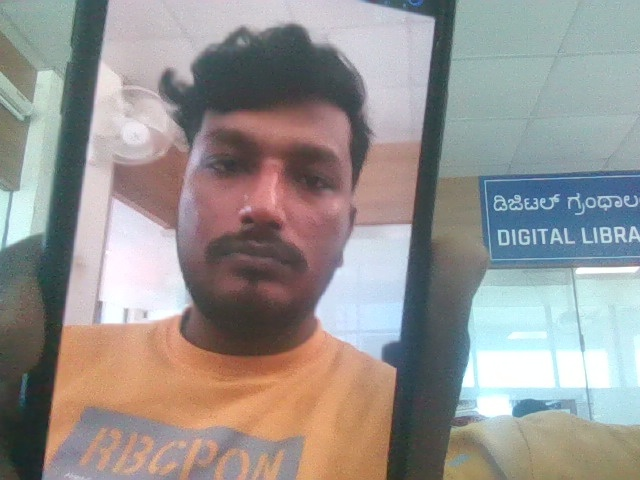fake: (145, 10, 382, 346)
